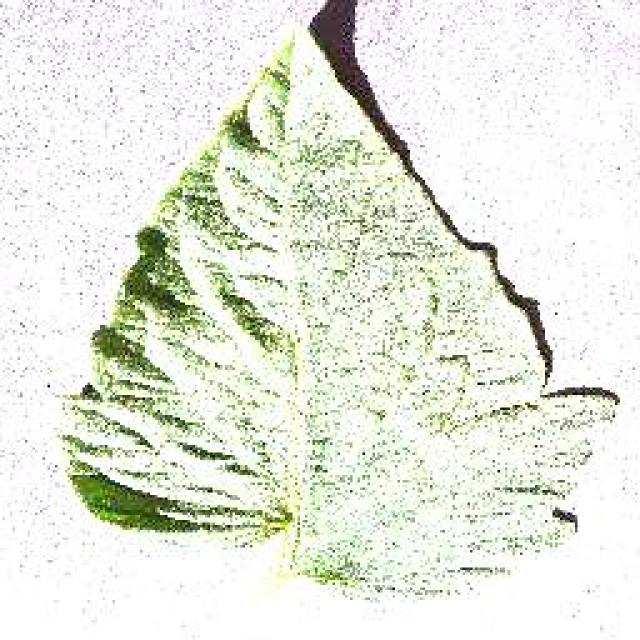Tomato___healthy: (61, 7, 625, 603)
